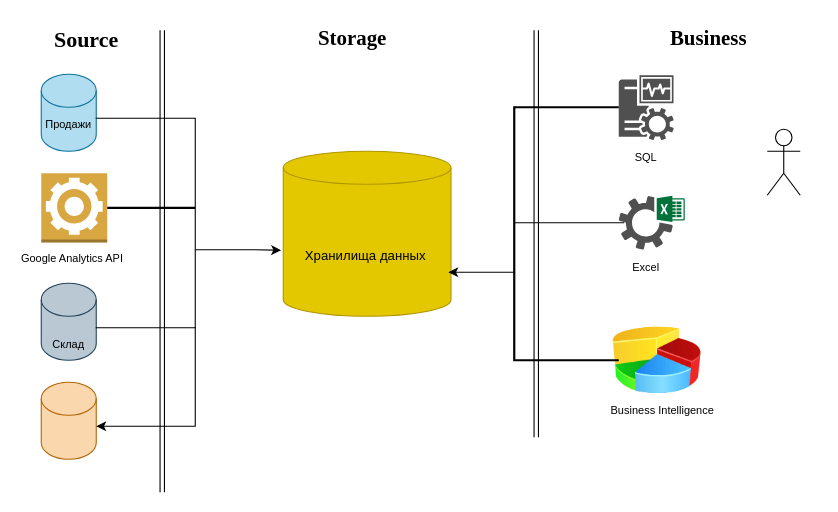
The diagram is 838 pixels wide and 512 high, and some of its shapes have lost their labels. The centre of each missing label's shape, as x and y in pixels:
"CRM" goes at (68,420).
"Пользователь" goes at (783,161).
